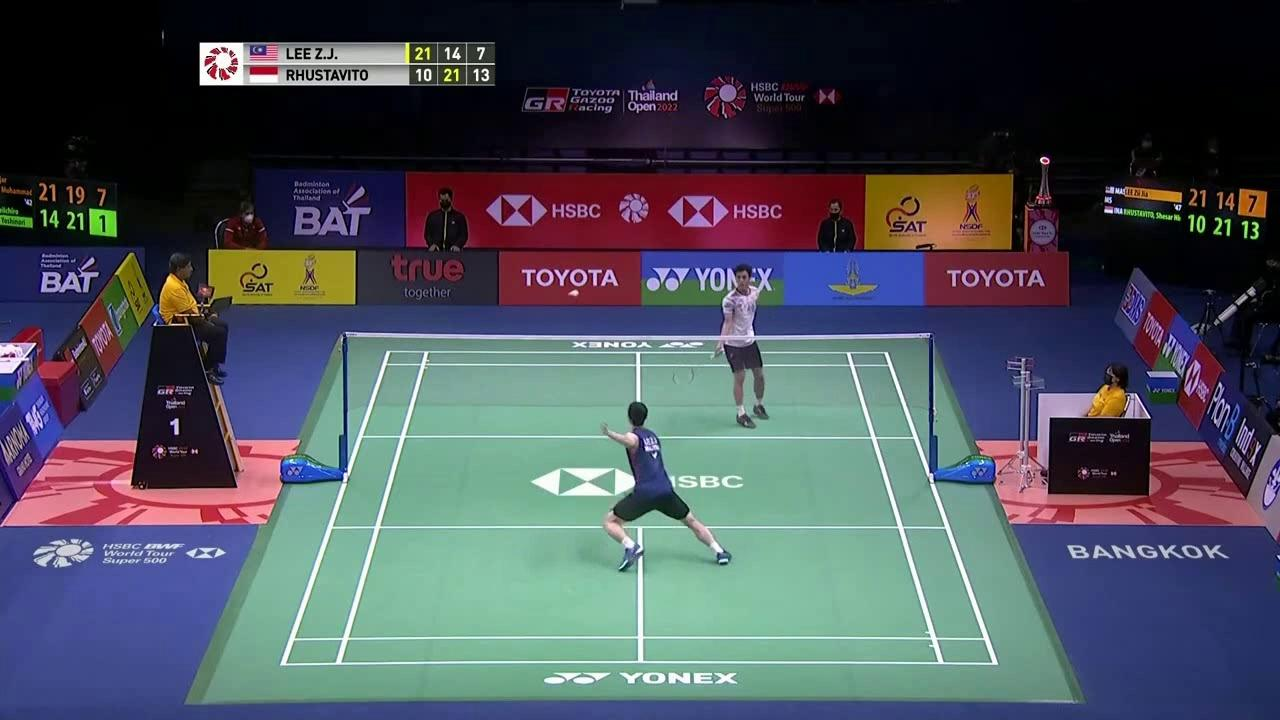racket: (672, 349, 719, 386), (614, 488, 638, 502)
shuttle: (567, 289, 580, 297)
